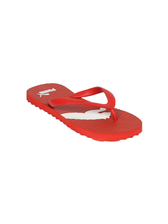shoes: (24, 77, 148, 142)
